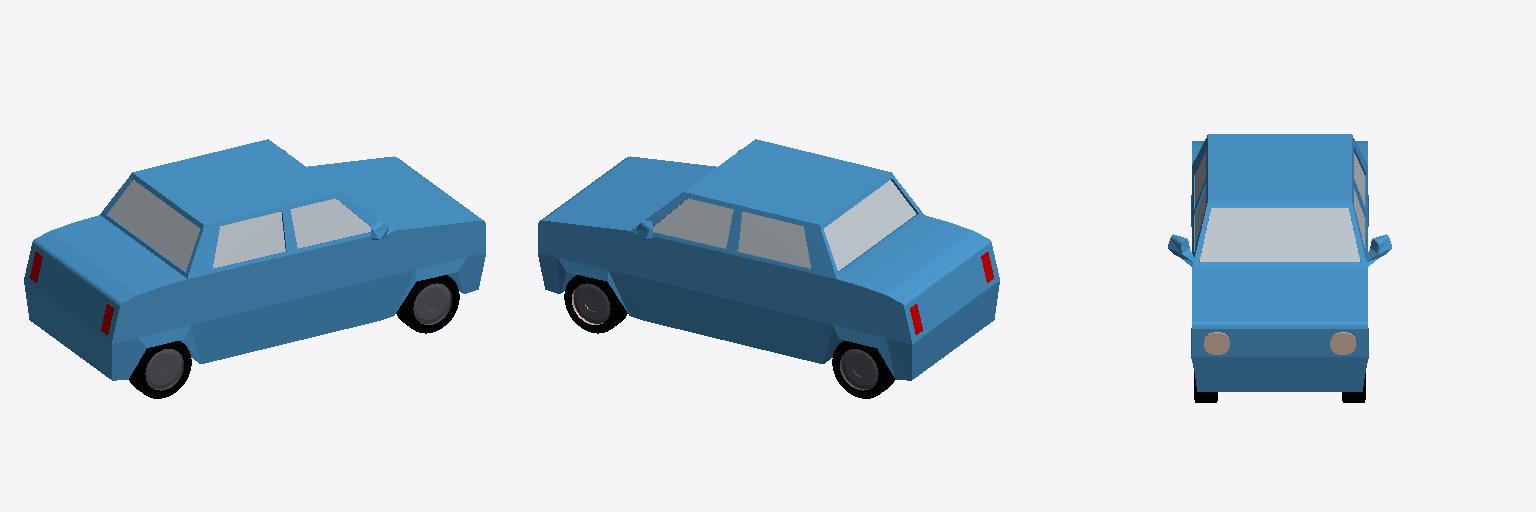
3 renders of one model, left to right at view 1: azimuth 30°, elevation 25°; view 2: azimuth 150°, elevation 25°; view 3: azimuth 270°, elevation 25°, orthographic.
Visible parts, largest first — view 1: Cylinder.001; view 2: Cylinder.001; view 3: Cylinder.001.
Part boxes in pixels (x1,y1,x2,y2): Cylinder.001: (24,139,485,398); Cylinder.001: (538,139,999,398); Cylinder.001: (1168,134,1391,402).
Bounding box in the file's own units: 5.26 × 2.1 × 2.72.
Materials: 1 (1 with a texture image).